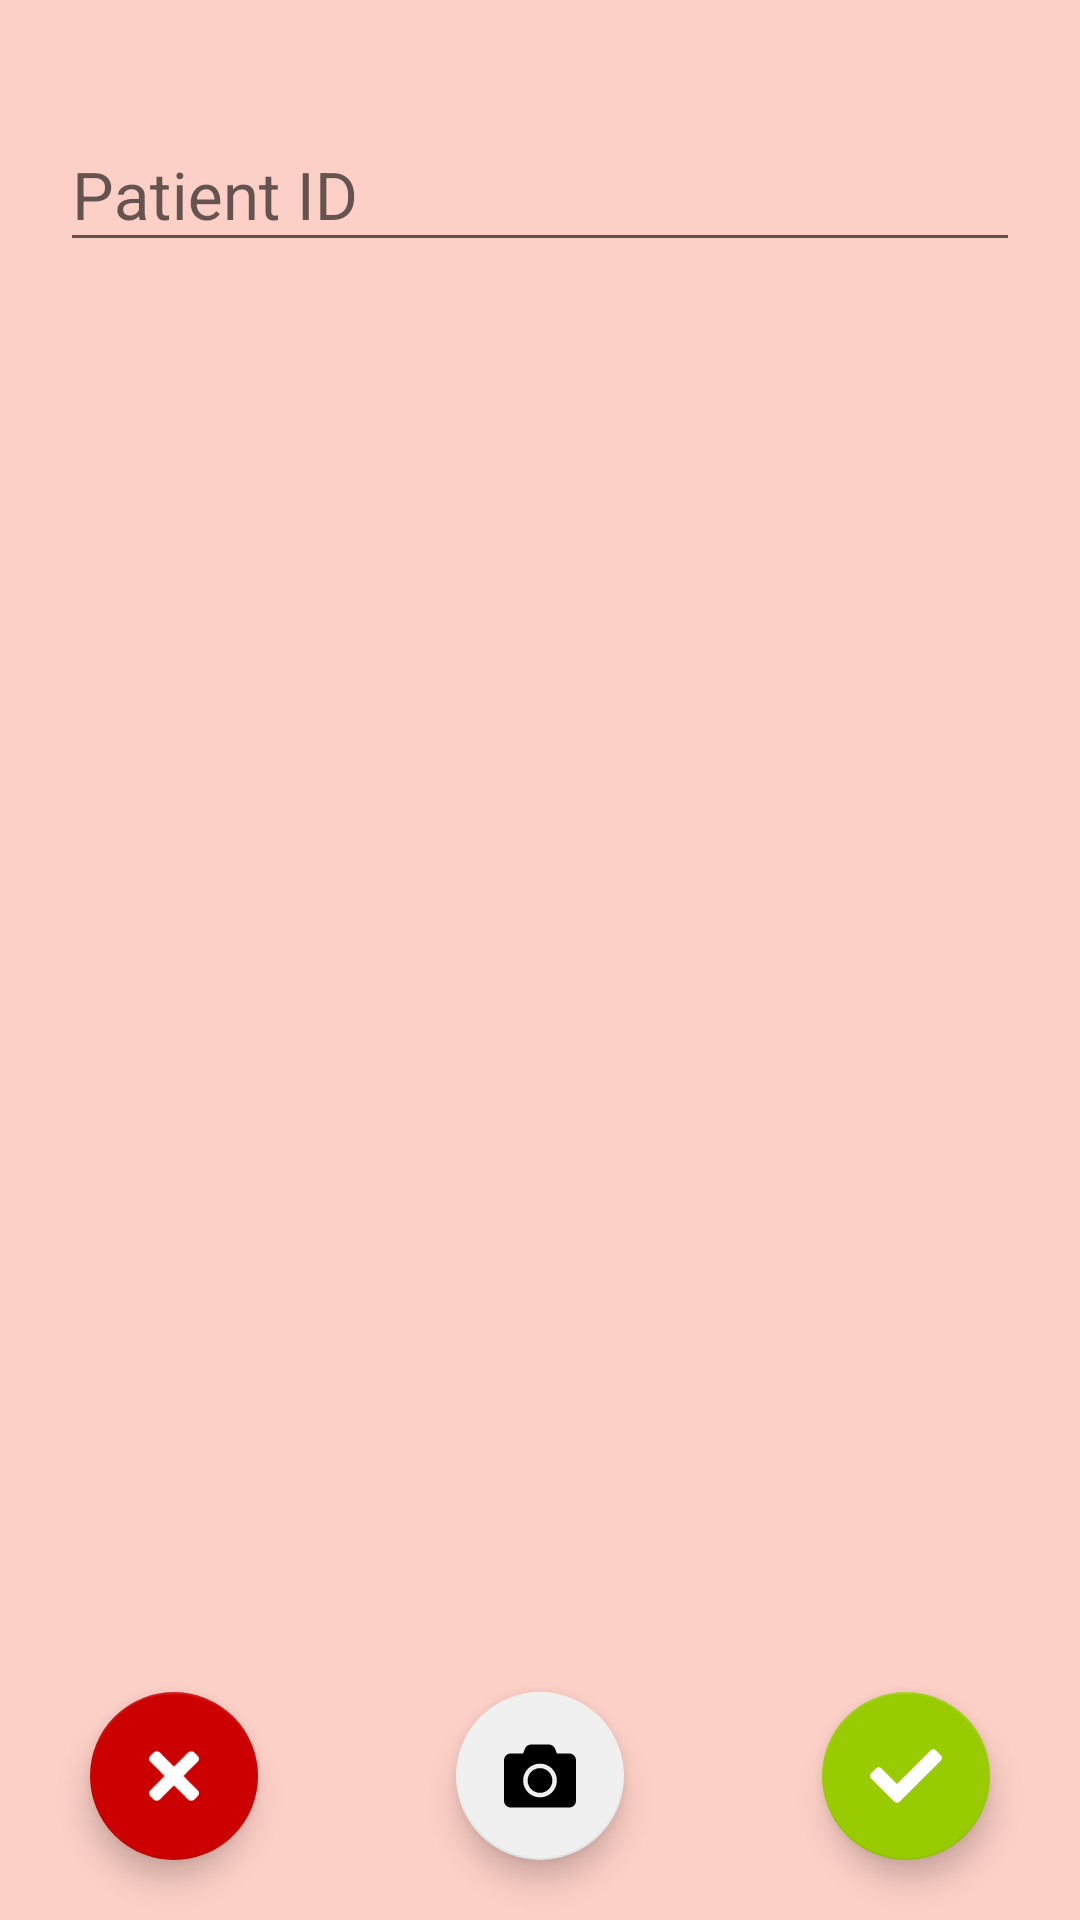

Named icons in this screenshot (1080 x 1920) and their centers, [x,y]:
camera: [540,1776]
check: [906,1776]
times: [174,1776]
